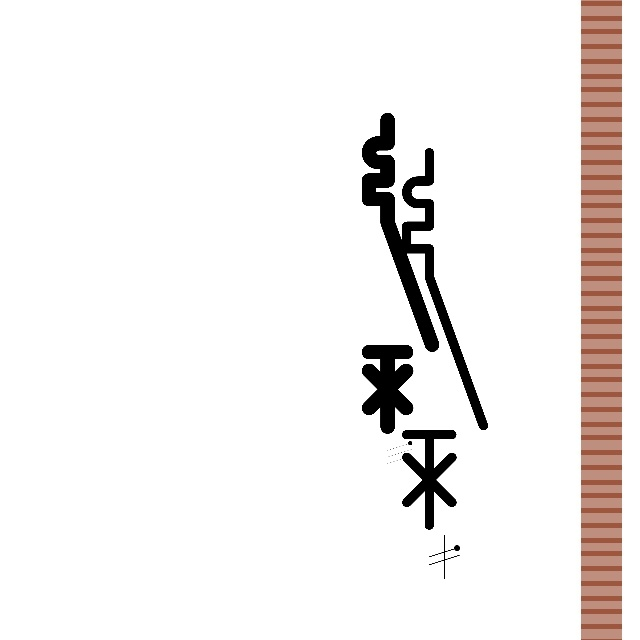interruptor_termomagnetico: (397, 143, 493, 535), (361, 112, 440, 435)
